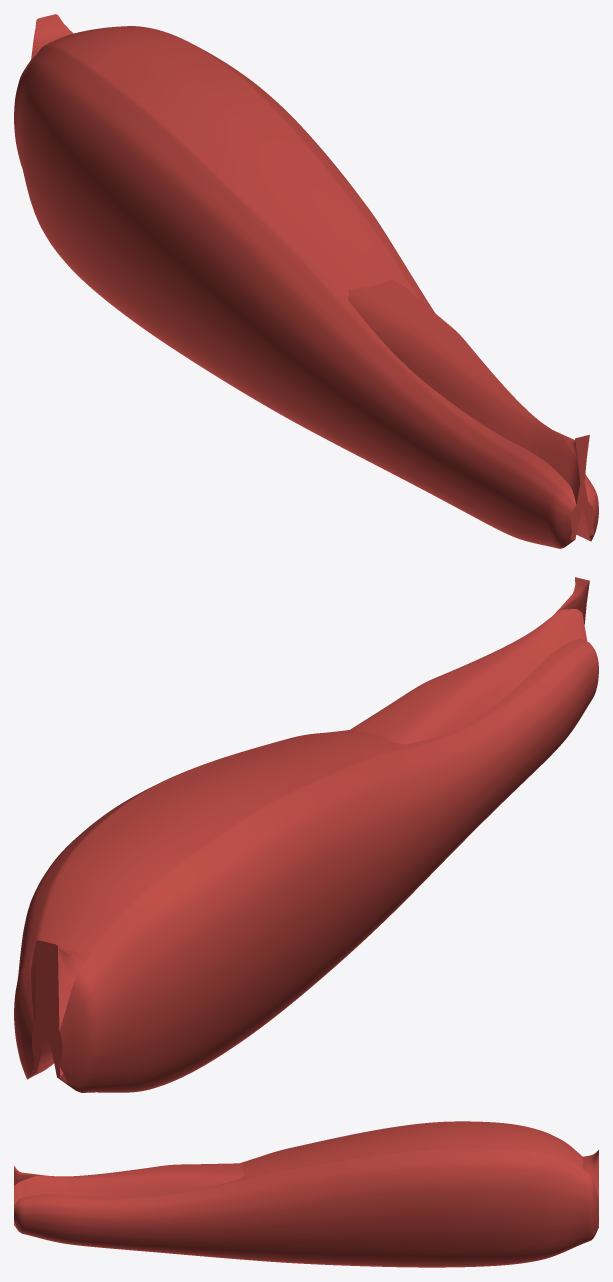
The model's file is chopper_4.glb.
The picture shows the model from 3 angles, top to bottom: view 1: azimuth 30°, elevation 25°; view 2: azimuth 150°, elevation 25°; view 3: azimuth 270°, elevation 25°; orthographic projection. The views are drawn at different scales.
Visible parts, largest first — view 1: lod0; view 2: lod0; view 3: lod0.
Part boxes in pixels (x1,y1,x2,y2): lod0: (14,14,598,548); lod0: (14,577,598,1092); lod0: (14,1121,598,1267).
Size of what is drawn, in the model's own units: 0.2099 by 0.24 by 1.06.
